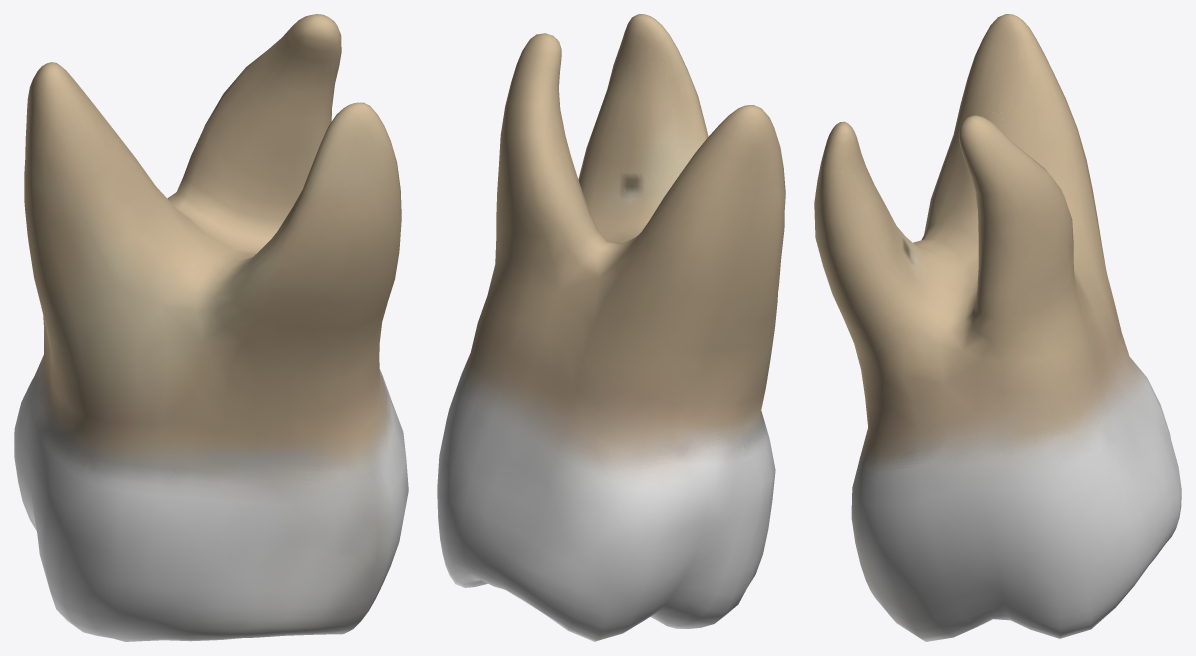
Rendered from tooth-26.glb.
3 renders of one model, left to right at view 1: azimuth 30°, elevation 25°; view 2: azimuth 150°, elevation 25°; view 3: azimuth 270°, elevation 25°, orthographic. The views are drawn at different scales.
Parts seen in each view (by area): view 1: ZBrushPolyMesh3D5_blinn18_0; view 2: ZBrushPolyMesh3D5_blinn18_0; view 3: ZBrushPolyMesh3D5_blinn18_0.
Boxes of the visible parts, bbox=[...] form: ZBrushPolyMesh3D5_blinn18_0: bbox=[14, 14, 408, 641]; ZBrushPolyMesh3D5_blinn18_0: bbox=[437, 14, 785, 641]; ZBrushPolyMesh3D5_blinn18_0: bbox=[814, 14, 1181, 641].
Size of the model in its own units: 0.4121 by 0.6743 by 0.4296.
1 material, 1 textured.
